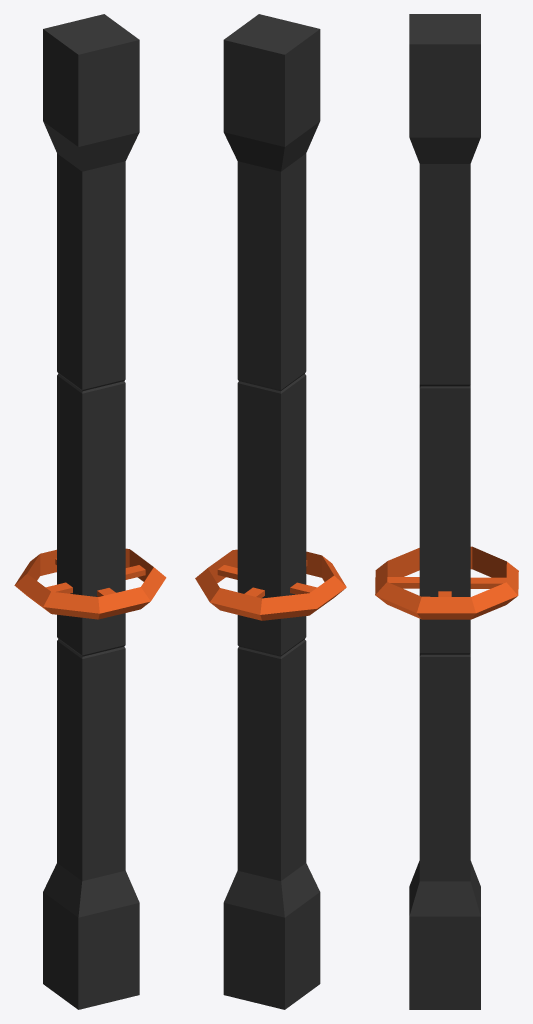
File: pillar.fbx
3 views of the same model, side by side, from view 1: azimuth 30°, elevation 25°; view 2: azimuth 150°, elevation 25°; view 3: azimuth 270°, elevation 25° (orthographic).
Parts seen in each view (by area): view 1: Box001, Tube001; view 2: Box001, Tube001; view 3: Box001, Tube001.
Part boxes in pixels (x1=…): Box001: x1=43, y1=14, x2=139, y2=1009; Tube001: x1=14, y1=548, x2=166, y2=619; Box001: x1=223, y1=14, x2=320, y2=1009; Tube001: x1=195, y1=549, x2=346, y2=620; Box001: x1=409, y1=14, x2=480, y2=1009; Tube001: x1=375, y1=546, x2=518, y2=619.
Bounding box in the file's own units: 28.27 × 210 × 28.27.
